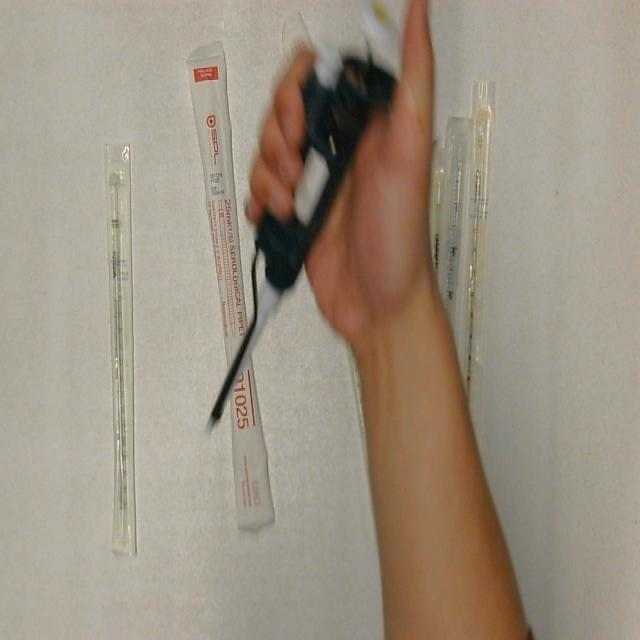Serelogical Pipet 1 mL: (449, 79, 503, 494), (417, 144, 454, 396)
Serelogical Pipet 2 mL: (90, 136, 148, 561)
Serelogical Pipet 25 mL: (182, 35, 279, 534)
Single Channel Pipettor: (200, 0, 408, 447)
